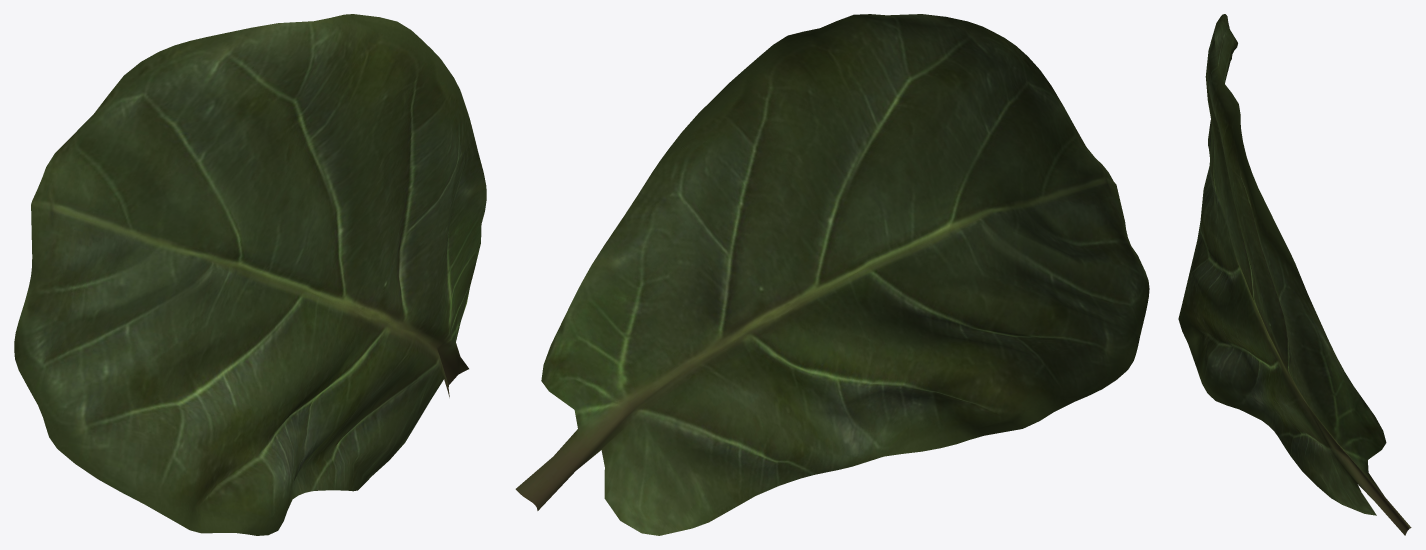
3 renders of one model, left to right at view 1: azimuth 30°, elevation 25°; view 2: azimuth 150°, elevation 25°; view 3: azimuth 270°, elevation 25°, orthographic. The views are drawn at different scales.
Parts seen in each view (by area): view 1: G-Plane209 68% 68% 68% 68%.016; view 2: G-Plane209 68% 68% 68% 68%.016; view 3: G-Plane209 68% 68% 68% 68%.016.
Boxes of the visible parts, bbox=[...] form: G-Plane209 68% 68% 68% 68%.016: bbox=[14, 14, 486, 535]; G-Plane209 68% 68% 68% 68%.016: bbox=[515, 14, 1149, 535]; G-Plane209 68% 68% 68% 68%.016: bbox=[1178, 14, 1411, 535].
Size of the model in its own units: 1.17 by 1.08 by 0.5713.
Materials: 1 (1 with a texture image).
